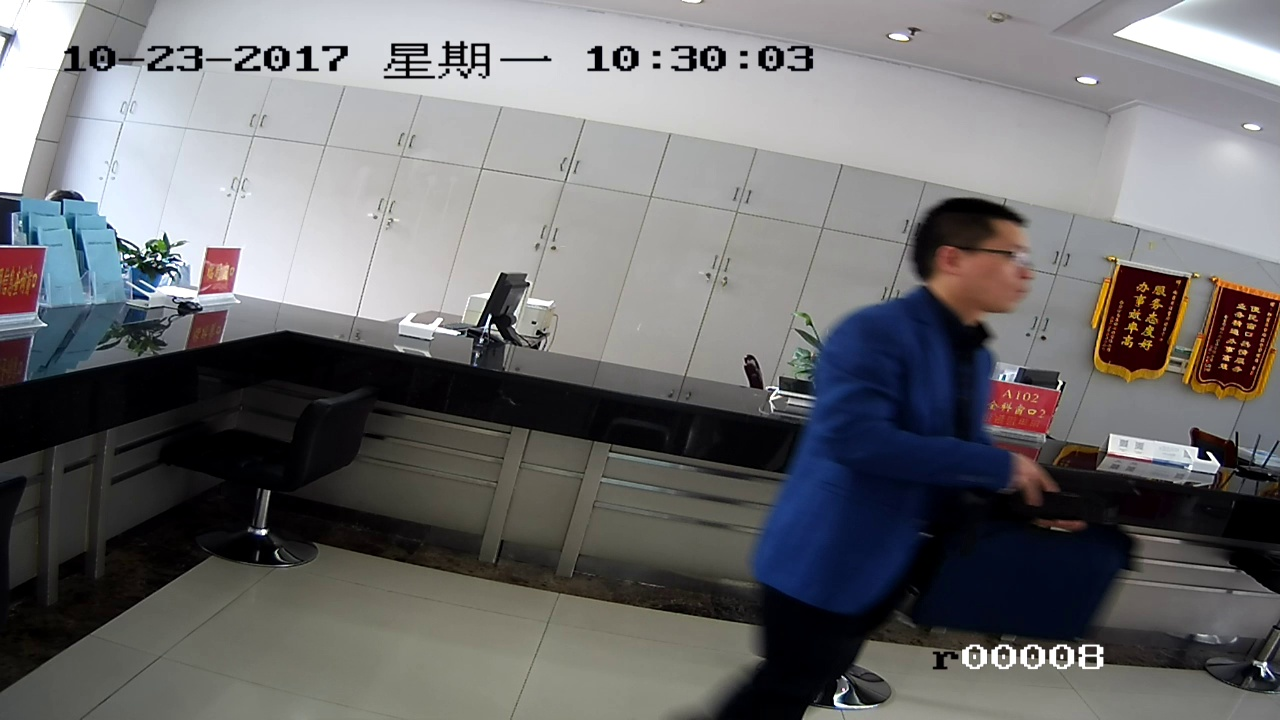billboard: (1107, 252, 1174, 388), (1198, 276, 1273, 397)
chair: (186, 398, 373, 574)
monitor: (473, 265, 536, 353)
person: (753, 198, 1033, 686)
